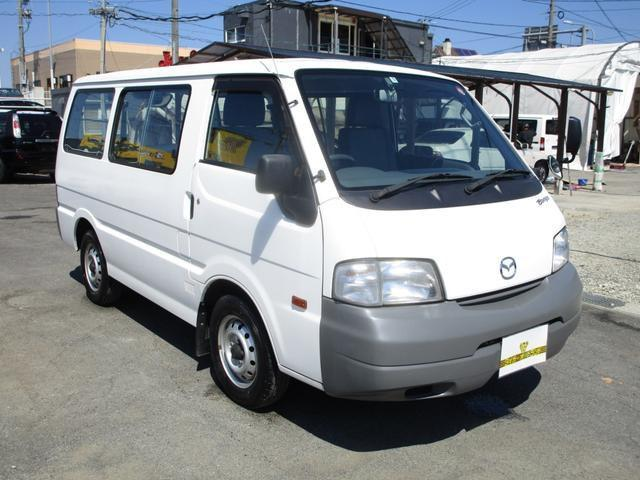Van: (58, 66, 583, 413)
